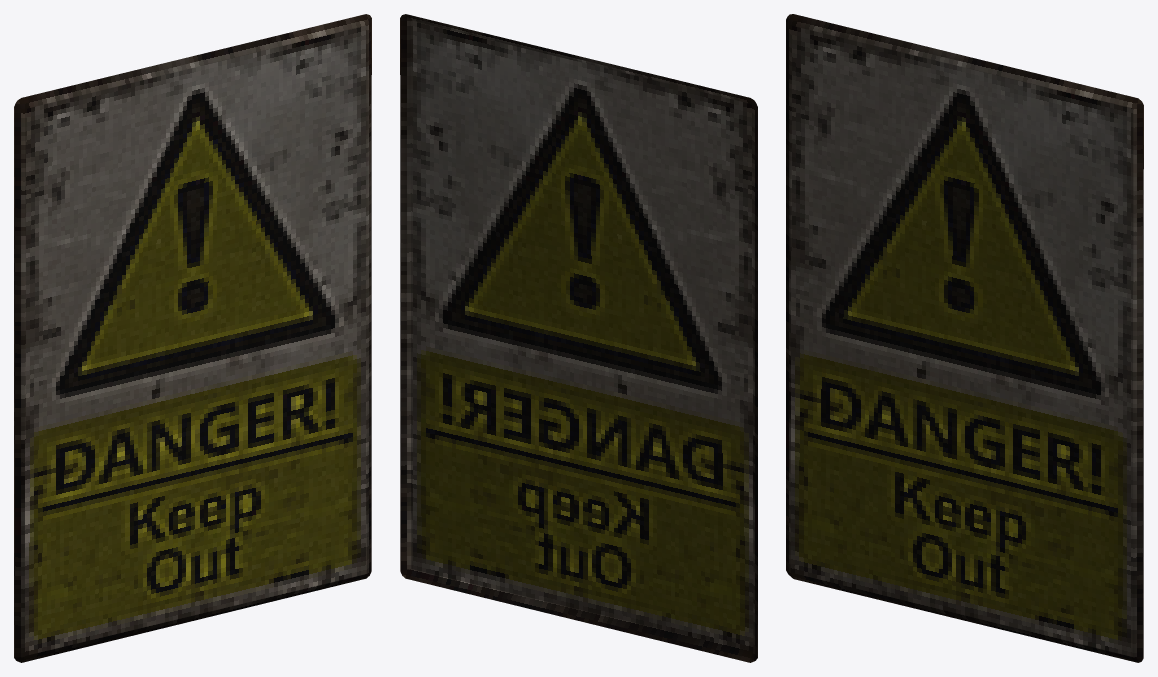
File: sign_3.glb
3 views of the same model, side by side, from view 1: azimuth 30°, elevation 25°; view 2: azimuth 150°, elevation 25°; view 3: azimuth 330°, elevation 25° (orthographic).
Parts seen in each view (by area): view 1: sign_3; view 2: sign_3; view 3: sign_3.
Boxes of the visible parts, box(x1,y1,x2,y2) form: sign_3: box(14, 14, 371, 662); sign_3: box(400, 14, 757, 662); sign_3: box(786, 14, 1143, 662).
Bounding box in the file's own units: 0.2601 × 0.3926 × 0.004.
1 material, 1 textured.
